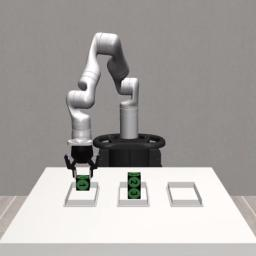cube1: (76, 174, 90, 190)
cube2: (128, 172, 140, 188)
cube3: (128, 187, 142, 199)
